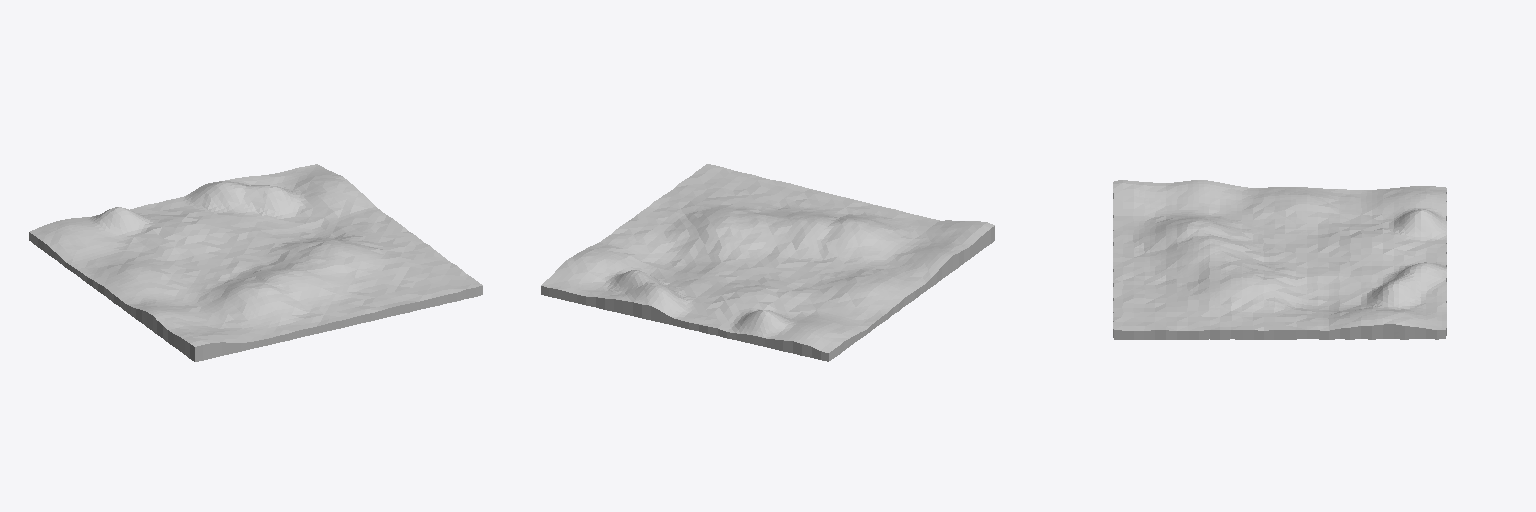
The model's file is terrain.obj.
3 views of the same model, side by side, from view 1: azimuth 30°, elevation 25°; view 2: azimuth 150°, elevation 25°; view 3: azimuth 270°, elevation 25° (orthographic).
Visible parts, largest first — view 1: Plane; view 2: Plane; view 3: Plane.
Part boxes in pixels (left/top/right/bottom): Plane: left=29, top=164, right=482, bottom=361; Plane: left=541, top=164, right=994, bottom=361; Plane: left=1113, top=180, right=1446, bottom=339.
Bounding box in the file's own units: 108 × 9.48 × 108.